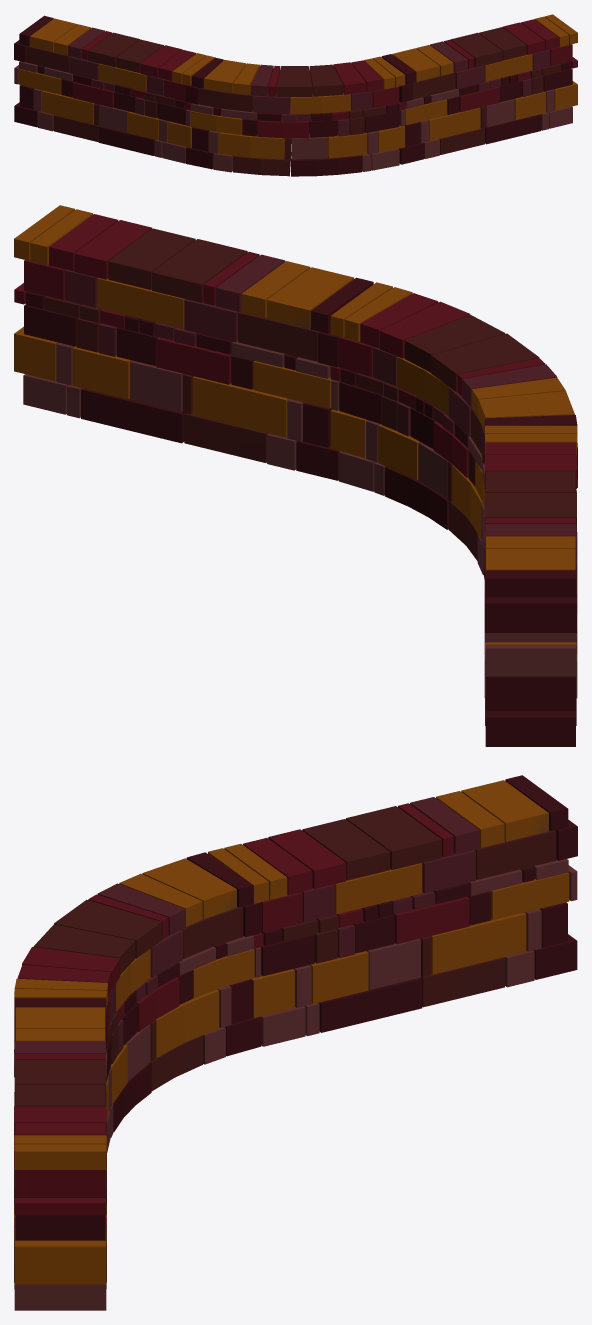
File: WallRed4.fbx
The picture shows the model from 3 angles, top to bottom: view 1: azimuth 30°, elevation 25°; view 2: azimuth 150°, elevation 25°; view 3: azimuth 270°, elevation 25°; orthographic projection. The views are drawn at different scales.
Parts seen in each view (by area): view 1: WallRed4; view 2: WallRed4; view 3: WallRed4.
Boxes of the visible parts, <box> form: WallRed4: <box>14,14,577,176</box>; WallRed4: <box>14,205,577,746</box>; WallRed4: <box>14,775,577,1310</box>.
Bounding box in the file's own units: 49.16 × 9.9 × 30.92.
1 material, 1 textured.
